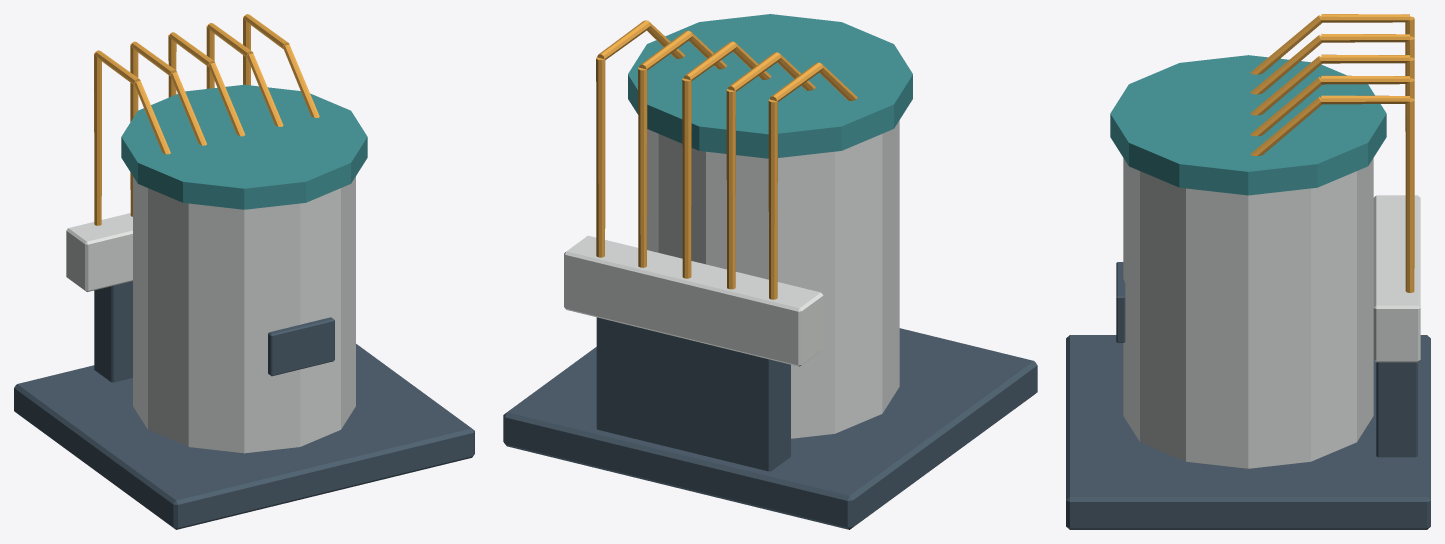
The picture shows the model from 3 angles, left to right: view 1: azimuth 30°, elevation 25°; view 2: azimuth 150°, elevation 25°; view 3: azimuth 270°, elevation 25°; orthographic projection. The views are drawn at different scales.
Visible parts, largest first — view 1: ME-066 Shielded surface heat pipe power concept batched; view 2: ME-066 Shielded surface heat pipe power concept batched; view 3: ME-066 Shielded surface heat pipe power concept batched.
Boxes of the visible parts, <box> form: ME-066 Shielded surface heat pipe power concept batched: <box>14,14,474,529</box>; ME-066 Shielded surface heat pipe power concept batched: <box>503,14,1037,529</box>; ME-066 Shielded surface heat pipe power concept batched: <box>1066,14,1430,529</box>.
Bounding box in the file's own units: 1.5 × 1.67 × 1.4.
